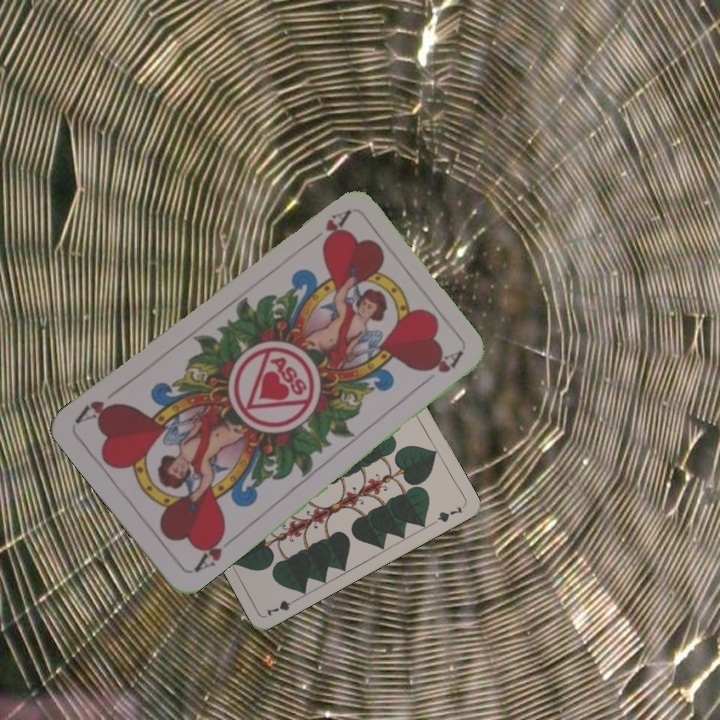G7: (262, 594, 301, 619)
HA: (188, 526, 238, 576), (301, 206, 352, 249)
